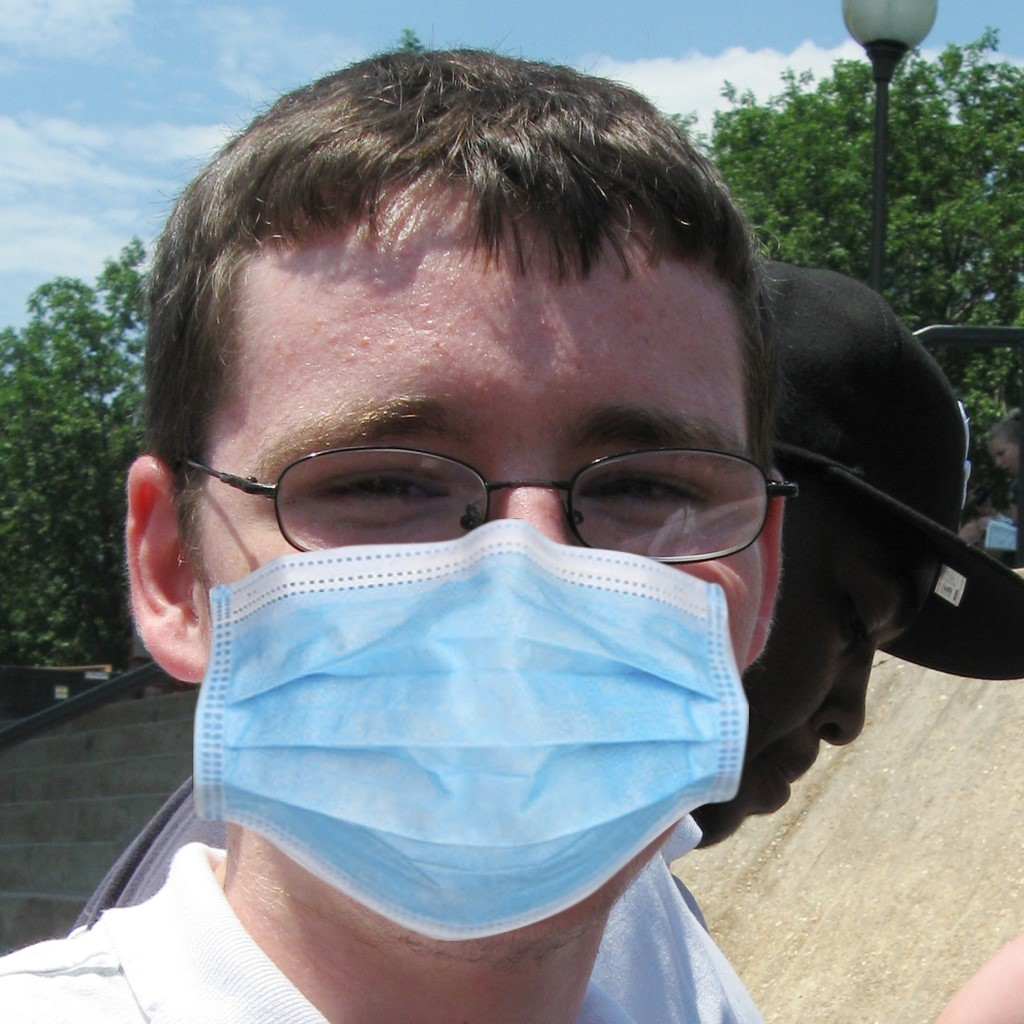con_mascara: (182, 184, 761, 928)
